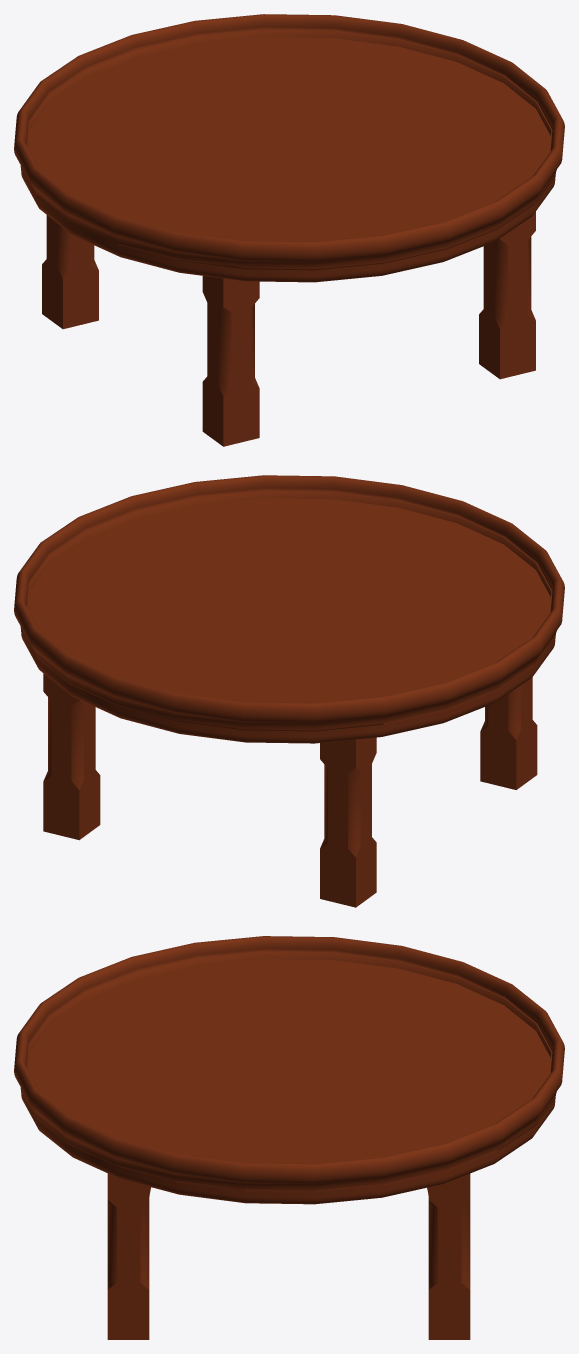
The model's file is desk.fbx.
3 renders of one model, top to bottom at view 1: azimuth 30°, elevation 25°; view 2: azimuth 150°, elevation 25°; view 3: azimuth 270°, elevation 25°, orthographic.
Visible parts, largest first — view 1: Group, Polygon.001, Polygon.002, Polygon.003; view 2: Group, Polygon.003, Polygon, Polygon.001; view 3: Group, Polygon.002, Polygon.
Part boxes in pixels (<box>): Group: <box>14,14,564,282</box>; Polygon.001: <box>202,276,259,446</box>; Polygon.002: <box>479,212,535,379</box>; Polygon.003: <box>42,215,98,329</box>; Group: <box>14,475,564,743</box>; Polygon.003: <box>320,737,376,907</box>; Polygon: <box>43,673,100,840</box>; Polygon.001: <box>480,677,537,789</box>; Group: <box>14,936,564,1204</box>; Polygon.002: <box>107,1173,149,1339</box>; Polygon: <box>428,1173,470,1339</box>.
Bounding box in the file's own units: 82.78 × 35.42 × 82.78.
